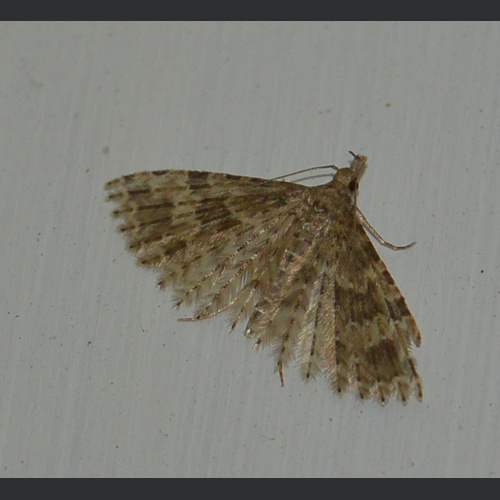Alucitidae: (94, 143, 431, 409)
moth: (92, 141, 429, 407)
